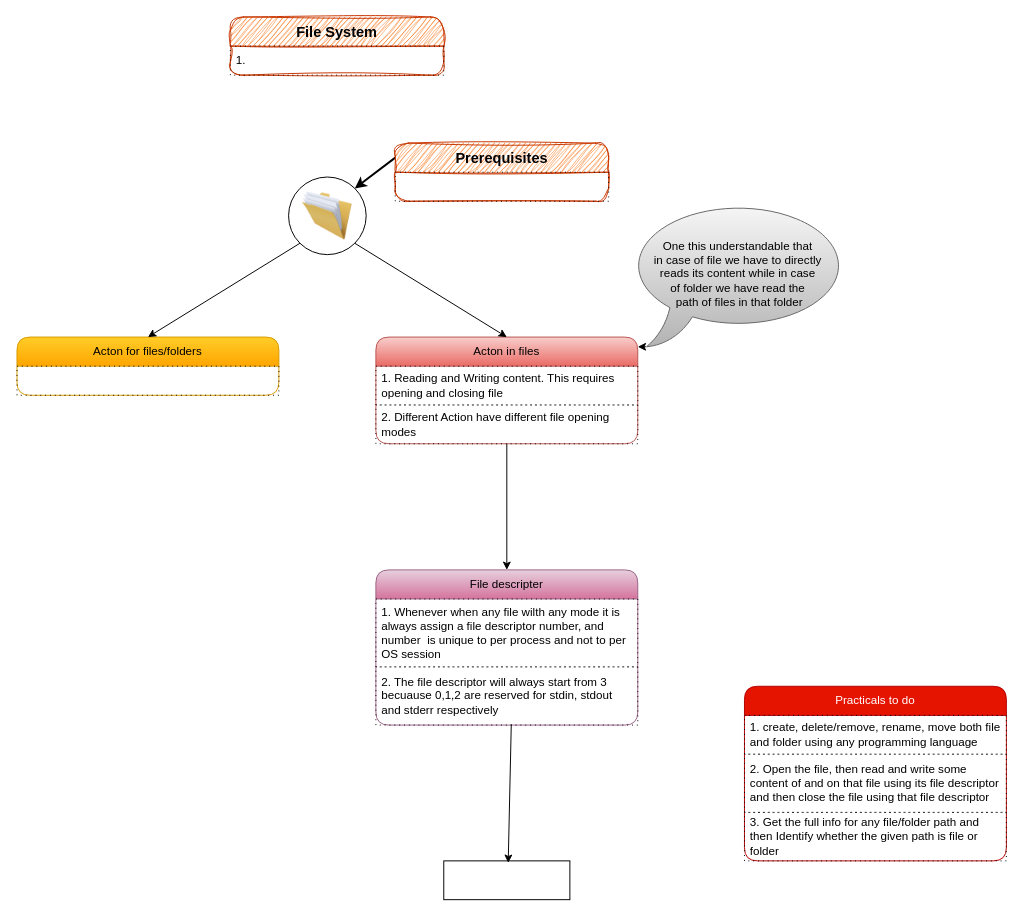
Image size: 1023x917. Some labels were removed from this diagram. The centre of each missing label's shape, as x and y in pixels:
"1. create, delete/remove, rename, move" belongs at (147,380).
"every process has input, output and err" belongs at (506,880).
"Should about path systems ( ps.svg )" belongs at (501,186).
